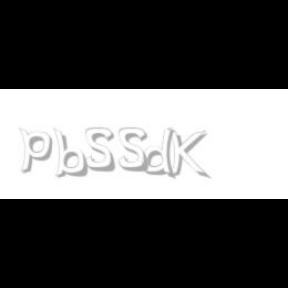K: (167, 128, 207, 180)
S: (119, 128, 150, 172), (86, 128, 116, 172)
b: (53, 128, 91, 178)
d: (142, 128, 180, 180)
p: (20, 128, 56, 174)
